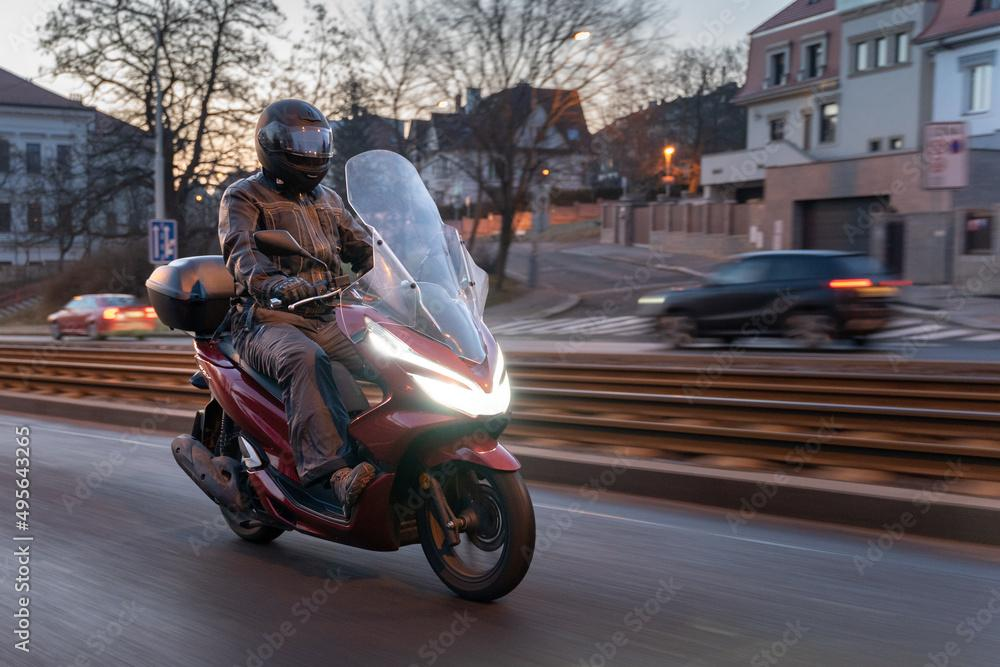helmet: (254, 98, 334, 194)
